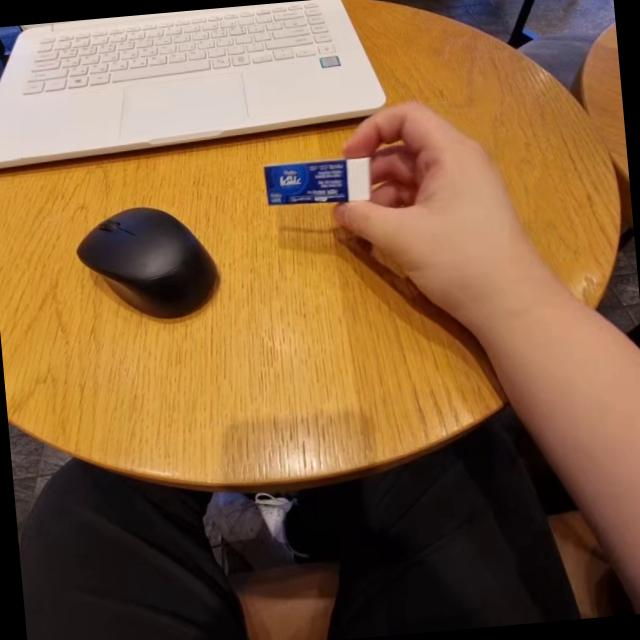eraser: (240, 152, 382, 209)
grab_eraser: (264, 102, 518, 333)
hand: (314, 89, 521, 288)
mouse: (65, 192, 230, 330)
